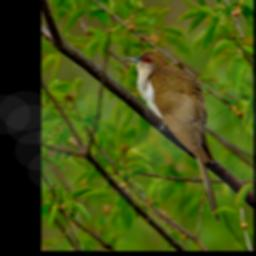Cuckoo: (125, 48, 220, 224)
